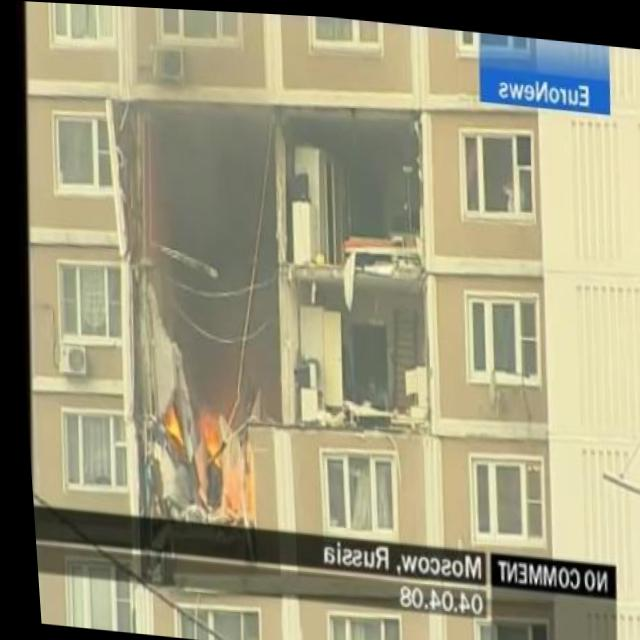fire: (186, 394, 224, 469), (153, 398, 177, 448)
